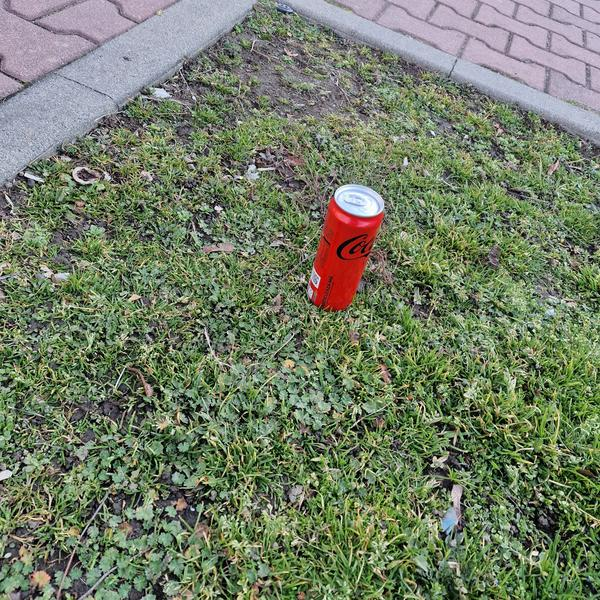can: (299, 177, 388, 316)
